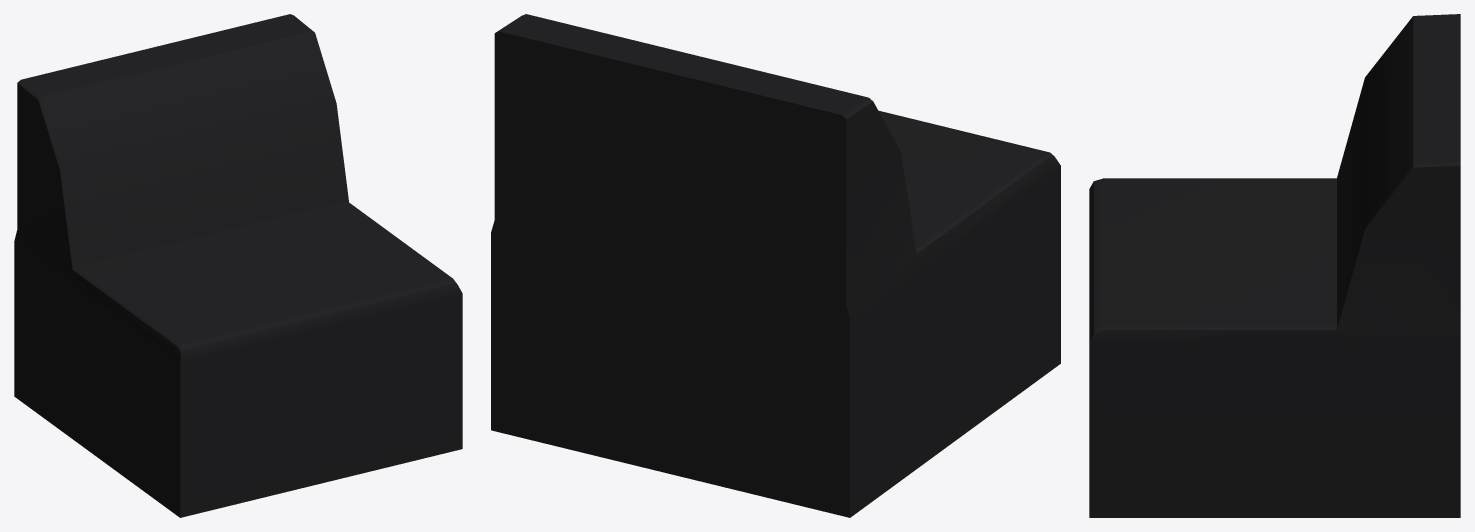
The model's file is small_sofa3.fbx.
3 renders of one model, left to right at view 1: azimuth 30°, elevation 25°; view 2: azimuth 150°, elevation 25°; view 3: azimuth 270°, elevation 25°, orthographic. The views are drawn at different scales.
Visible parts, largest first — view 1: small_sofa3; view 2: small_sofa3; view 3: small_sofa3.
Boxes of the visible parts, <box> form: small_sofa3: <box>14,14,462,517</box>; small_sofa3: <box>491,14,1060,517</box>; small_sofa3: <box>1089,14,1460,517</box>.
Size of the model in its own units: 0.0055 by 0.00587 by 0.0056.
Materials: 1 (1 with a texture image).
